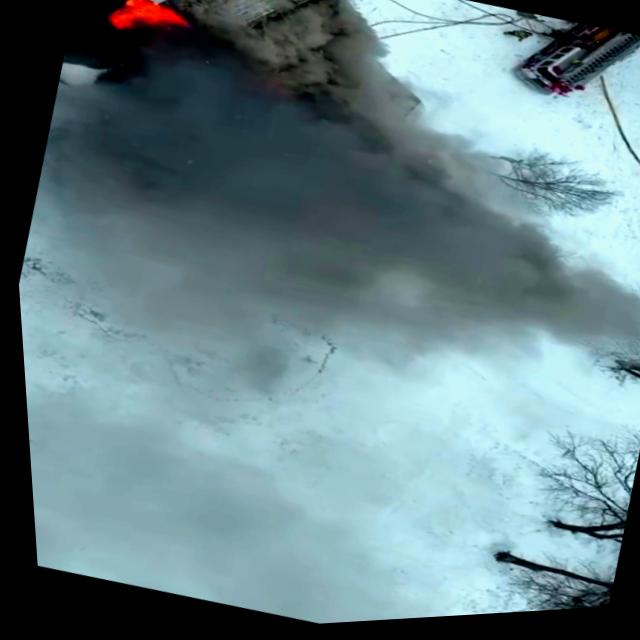fire: (105, 0, 183, 47)
smoke: (122, 58, 467, 326)
